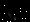person: (9, 9, 16, 20)
